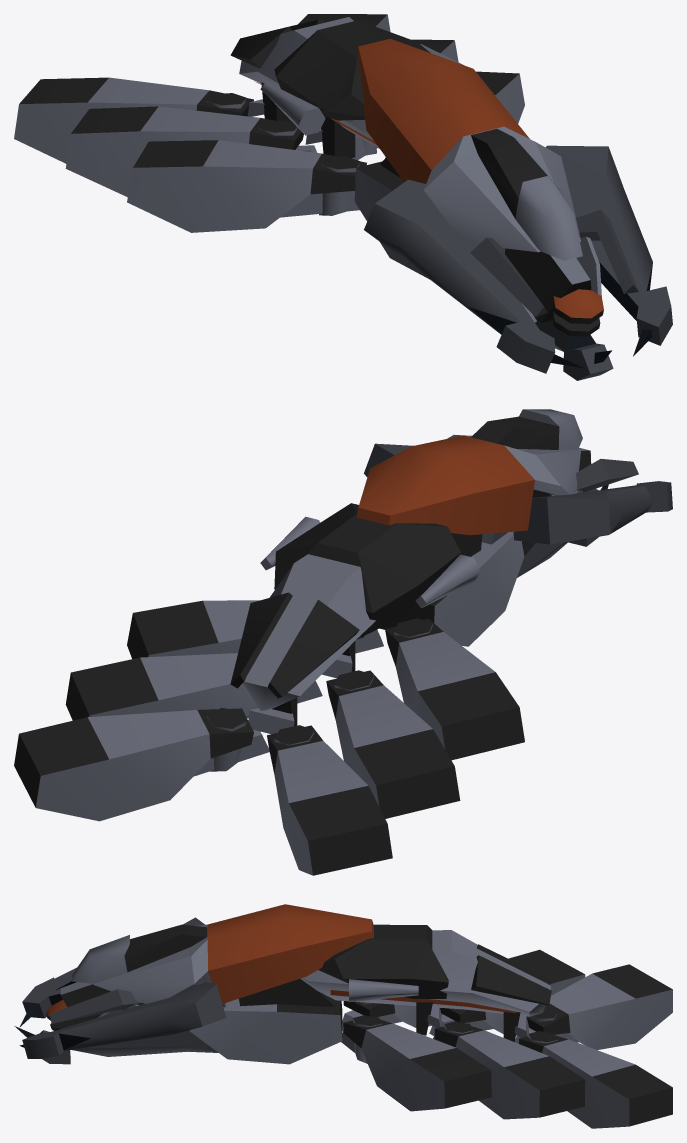
File: CAP_ARM_Imp_LowRes_LOD1.fbx
3 views of the same model, one above another, from view 1: azimuth 30°, elevation 25°; view 2: azimuth 150°, elevation 25°; view 3: azimuth 270°, elevation 25° (orthographic). The views are drawn at different scales.
Visible parts, largest first — view 1: loc_cap_arm_imp_lowres_LOD1; view 2: loc_cap_arm_imp_lowres_LOD1; view 3: loc_cap_arm_imp_lowres_LOD1.
Boxes of the visible parts, left/top/right/bottom form: loc_cap_arm_imp_lowres_LOD1: left=14, top=14, right=672, bottom=380; loc_cap_arm_imp_lowres_LOD1: left=14, top=409, right=672, bottom=875; loc_cap_arm_imp_lowres_LOD1: left=14, top=904, right=672, bottom=1128.
Size of the model in its own units: 234 by 126 by 446.
